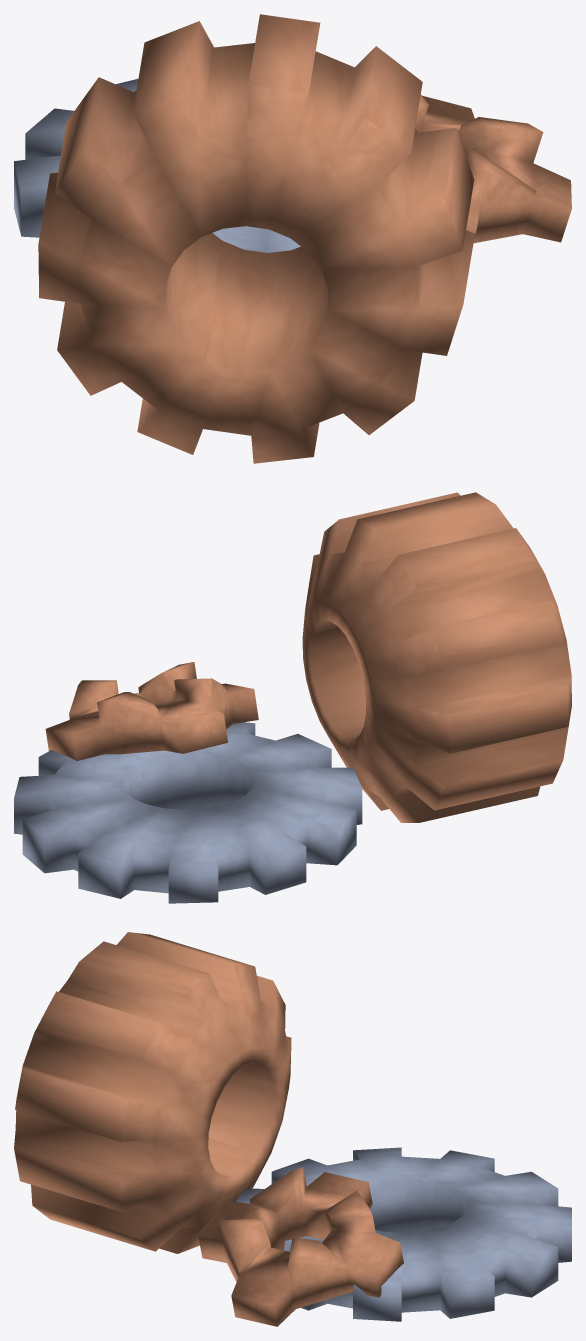
File: Cogs.fbx
The picture shows the model from 3 angles, top to bottom: view 1: azimuth 30°, elevation 25°; view 2: azimuth 150°, elevation 25°; view 3: azimuth 270°, elevation 25°; orthographic projection. The views are drawn at different scales.
Parts seen in each view (by area): view 1: polySurface1156; view 2: polySurface1156; view 3: polySurface1156.
Part boxes in pixels (x1,y1,x2,y2): polySurface1156: (14, 14, 571, 463); polySurface1156: (14, 492, 571, 903); polySurface1156: (14, 932, 571, 1326).
Bounding box in the file's own units: 19.51 × 11.89 × 21.98.
